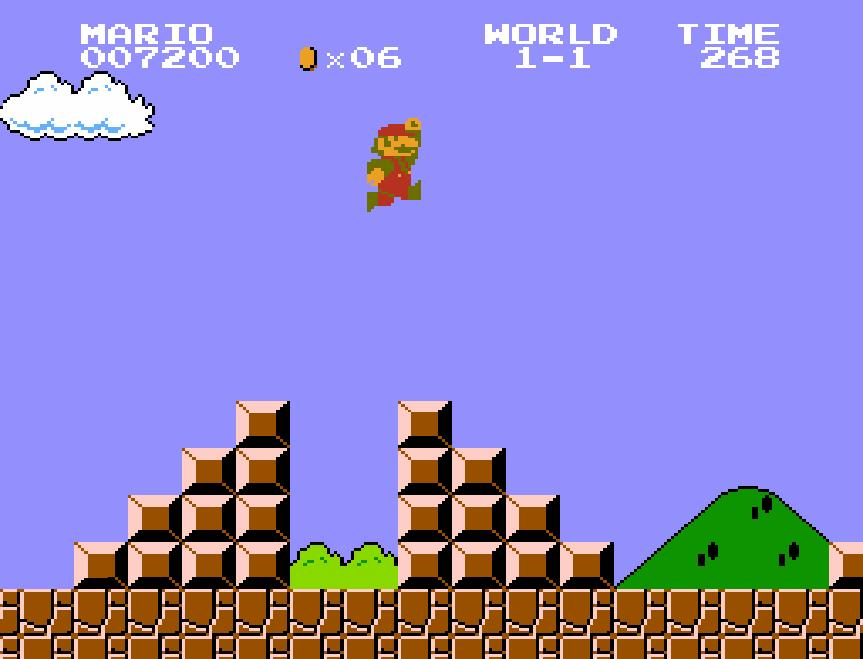big_mario: (366, 115, 424, 213)
